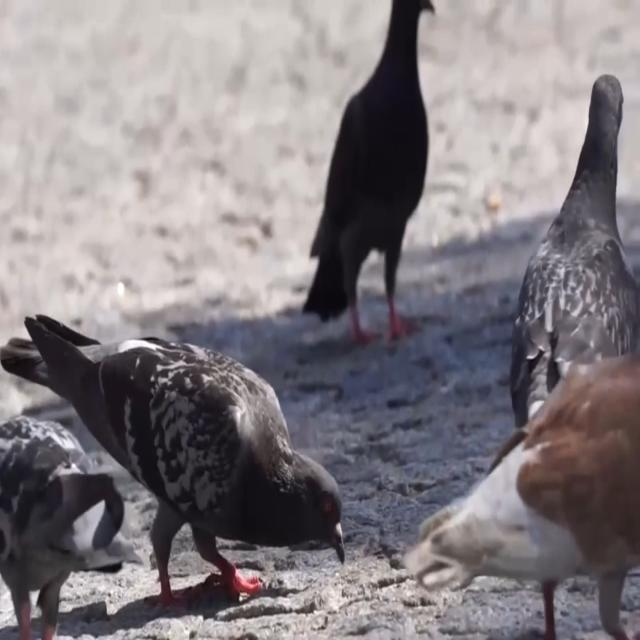bird: (1, 286, 358, 620), (400, 333, 640, 640), (288, 2, 454, 362), (503, 61, 640, 449), (0, 397, 146, 639)
